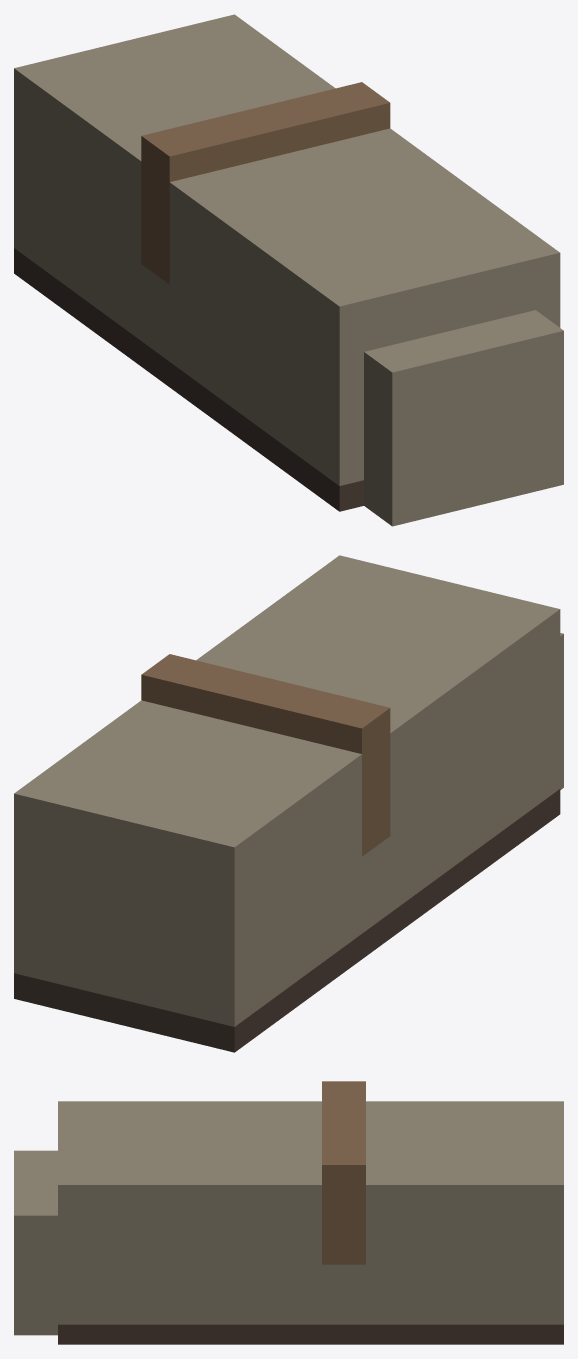
The model's file is cloth_uncommon_boot_foot_L.glb.
The picture shows the model from 3 angles, top to bottom: view 1: azimuth 30°, elevation 25°; view 2: azimuth 150°, elevation 25°; view 3: azimuth 270°, elevation 25°; orthographic projection. The views are drawn at different scales.
Parts seen in each view (by area): view 1: cloth_uncommon_boot_foot_L; view 2: cloth_uncommon_boot_foot_L; view 3: cloth_uncommon_boot_foot_L.
Boxes of the visible parts, x1,y1,x2,y2 form: cloth_uncommon_boot_foot_L: [14, 14, 563, 526]; cloth_uncommon_boot_foot_L: [14, 555, 563, 1052]; cloth_uncommon_boot_foot_L: [14, 1081, 563, 1344].
Size of the model in its own units: 0.108 by 0.108 by 0.3.
